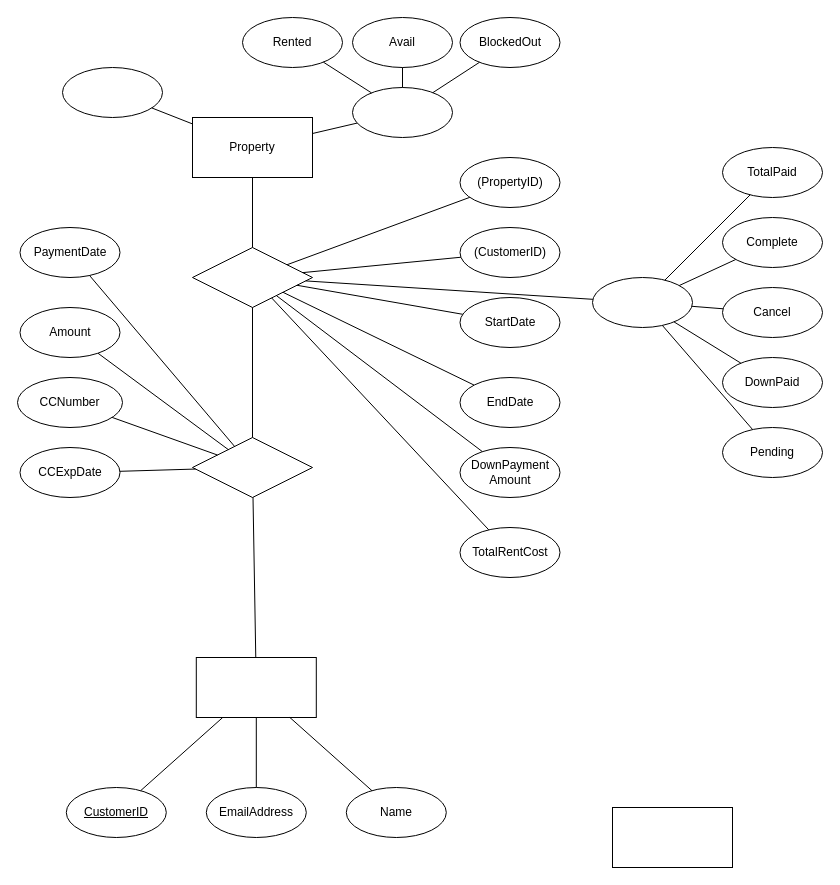
This 840x885 diagram has some shape labels left out. The centre of each missing label's shape, as x and y in pixels:
"AvailabilityCode" goes at (x=402, y=112).
"AvailabilityDate" goes at (x=112, y=92).
"Customer" goes at (x=255, y=687).
"Daniel Ferrer-Sosa tfe646" goes at (x=672, y=837).
"Payment" goes at (x=252, y=467).
"Rental" goes at (x=252, y=277).
"StatusCode" goes at (x=642, y=302).
